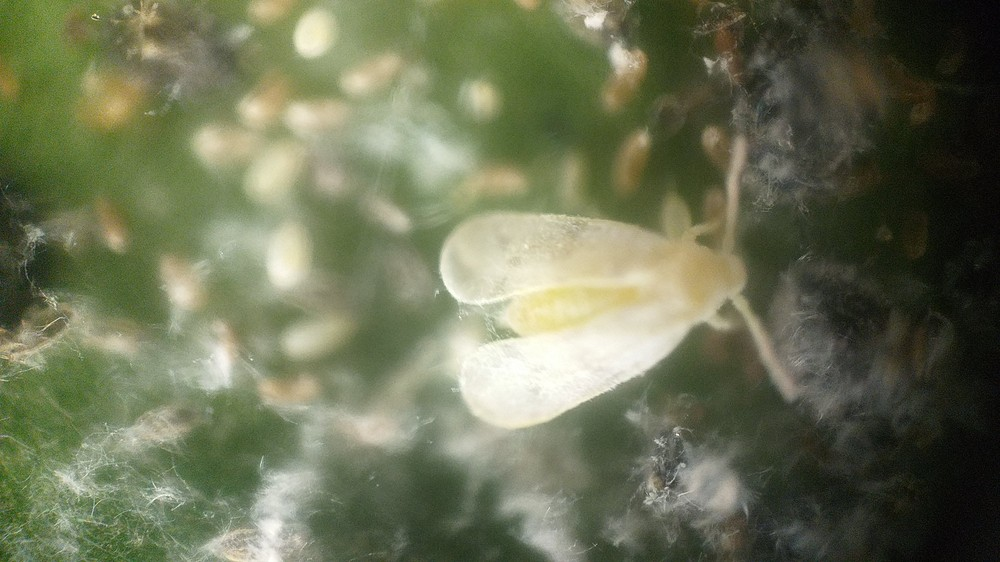Mosca Blanca: (417, 127, 819, 462)
